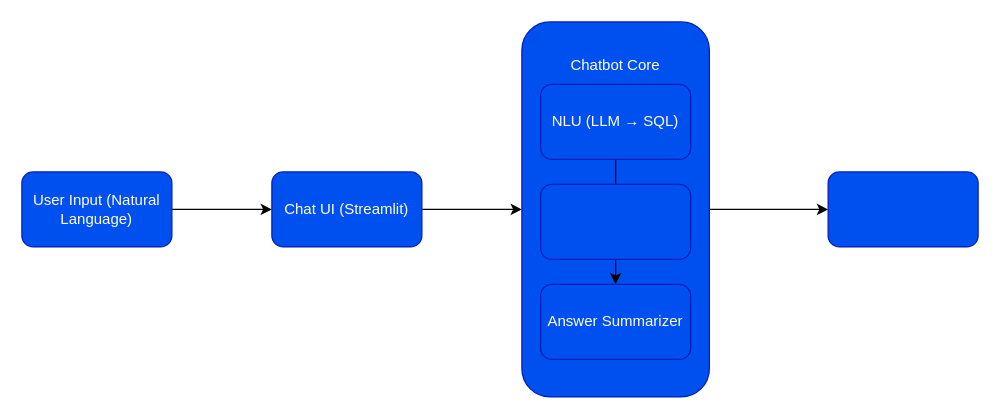
The diagram is 1000 pixels wide and 419 high, and some of its shapes have lost their labels. Each missing label, with the box of its shape:
Output in UI: (827, 171, 978, 247)
SQL Executor (SQLite): (539, 183, 691, 259)
